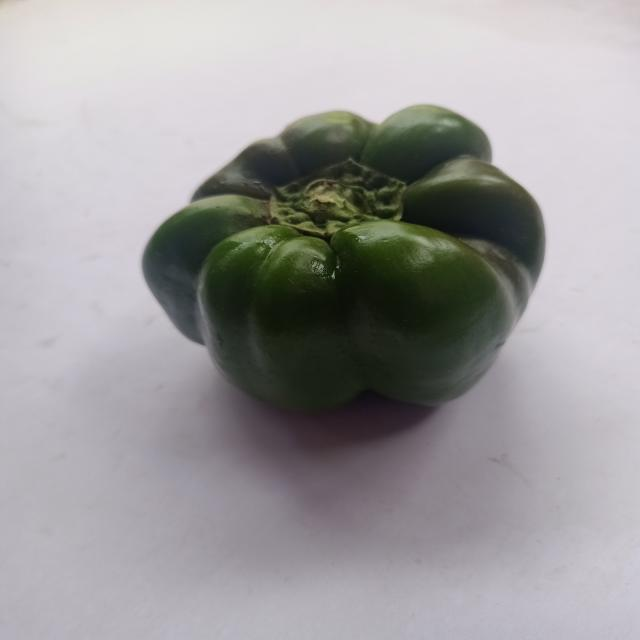Capsicum: (133, 98, 578, 461)
